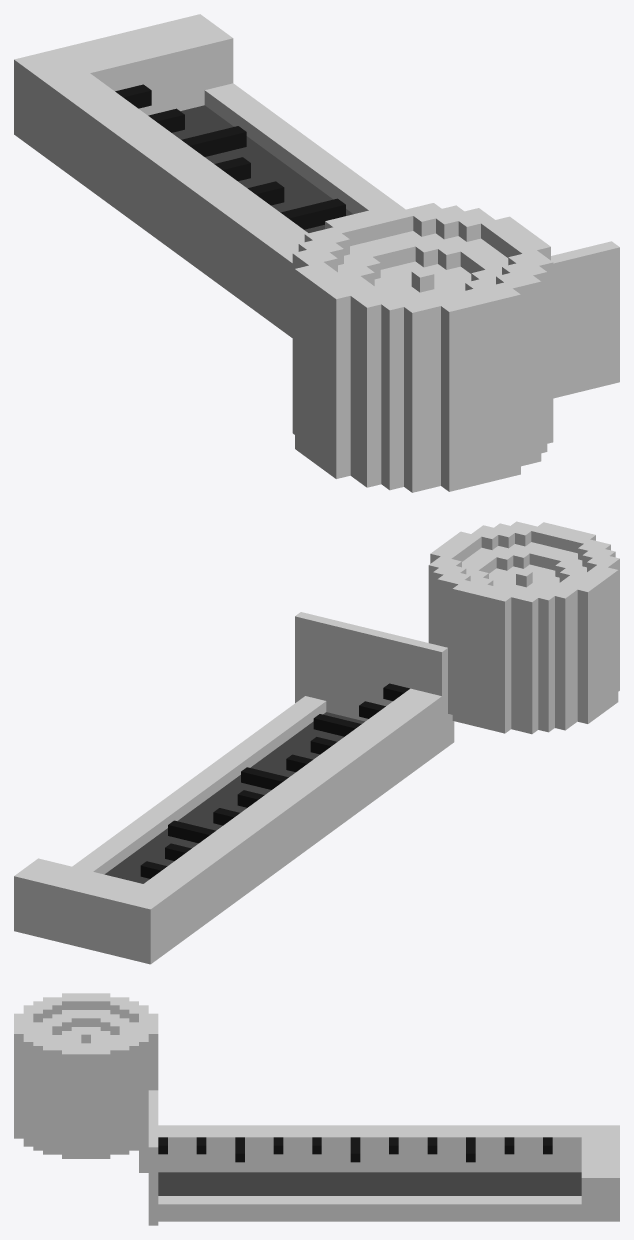
Rendered from new_gage03.obj.
The picture shows the model from 3 angles, top to bottom: view 1: azimuth 30°, elevation 25°; view 2: azimuth 150°, elevation 25°; view 3: azimuth 270°, elevation 25°; orthographic projection. The views are drawn at different scales.
Bounding box in the file's own units: 25 × 15 × 63.
Materials: 1 (1 with a texture image).
